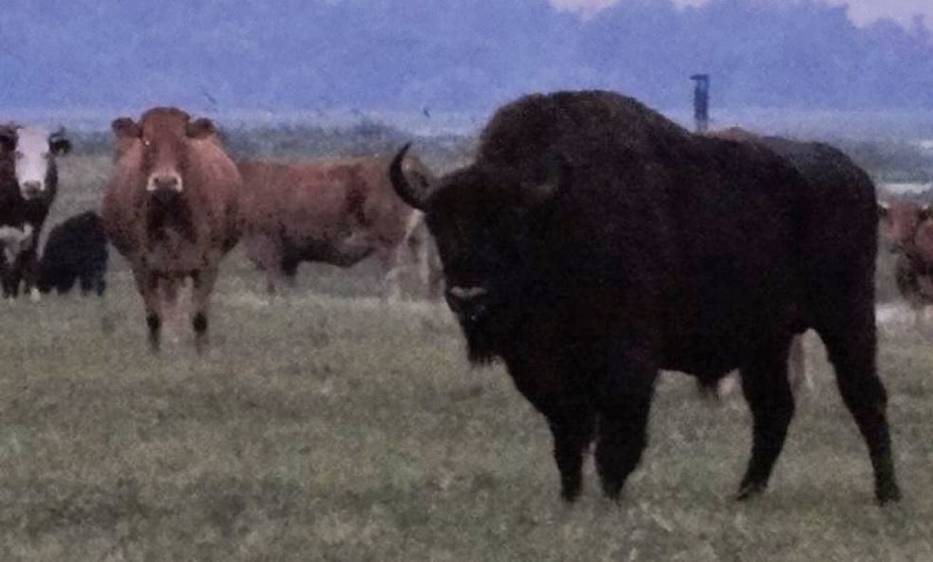zubr: (368, 52, 933, 529)
